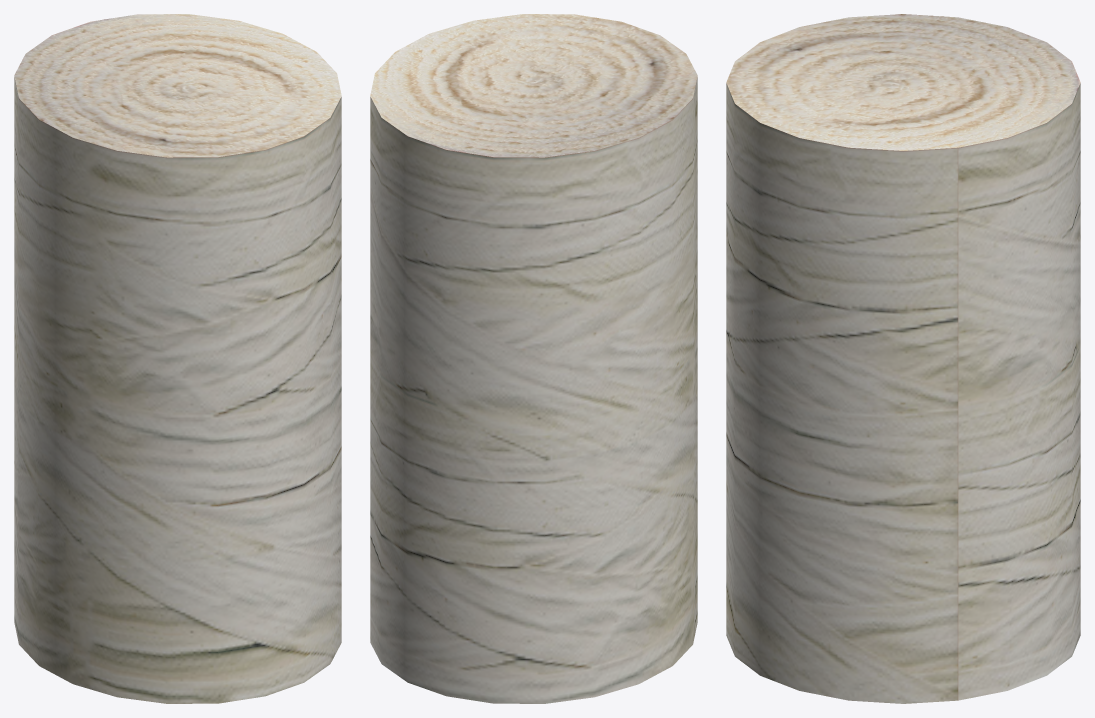
File: Bandage.obj
The picture shows the model from 3 angles, left to right: view 1: azimuth 30°, elevation 25°; view 2: azimuth 150°, elevation 25°; view 3: azimuth 270°, elevation 25°; orthographic projection.
Parts seen in each view (by area): view 1: pCylinder23; view 2: pCylinder23; view 3: pCylinder23.
Part boxes in pixels (x1=…): pCylinder23: x1=14, y1=14, x2=341, y2=703; pCylinder23: x1=370, y1=14, x2=697, y2=703; pCylinder23: x1=726, y1=14, x2=1080, y2=703.
Bounding box in the file's own units: 1.11 × 2.1 × 1.22.
1 material, 1 textured.
